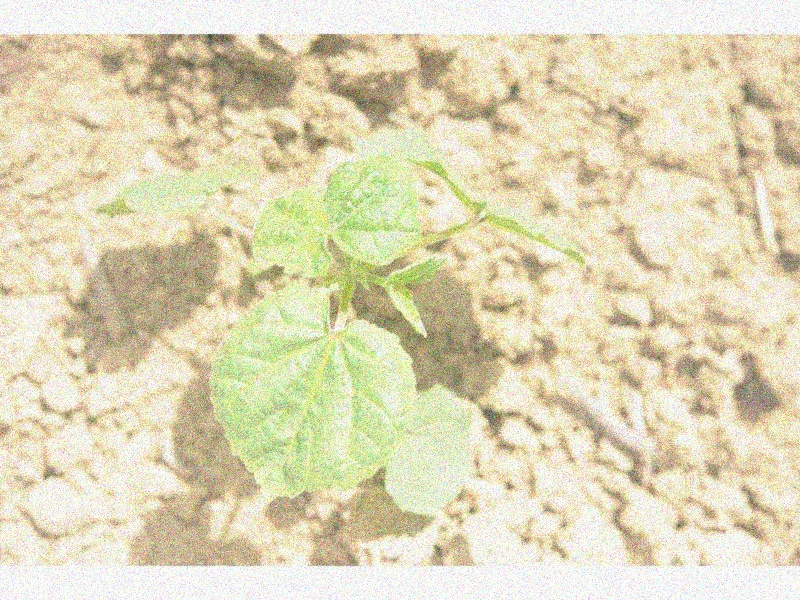velvet: (94, 129, 583, 515)
